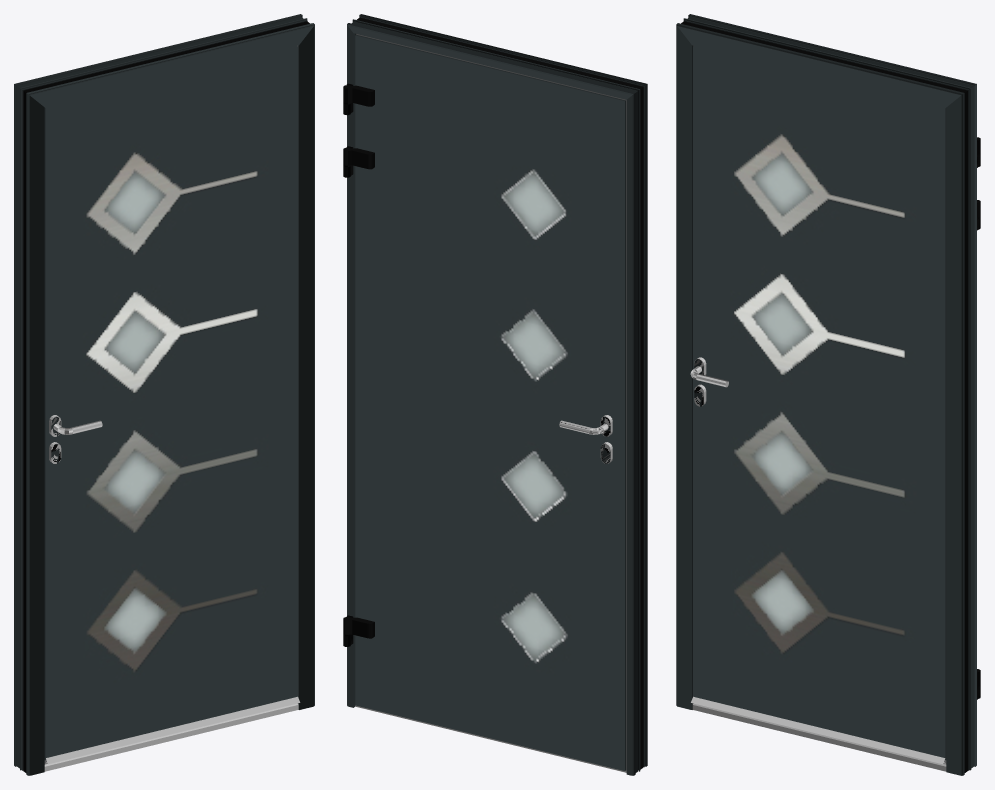
3 renders of one model, left to right at view 1: azimuth 30°, elevation 25°; view 2: azimuth 150°, elevation 25°; view 3: azimuth 330°, elevation 25°, orthographic.
Parts seen in each view (by area): view 1: ouvrant, 85; view 2: ouvrant, 85; view 3: ouvrant, 85.
Boxes of the visible parts, x1=… form: ouvrant: x1=44, y1=46, x2=300, y2=764; 85: x1=14, y1=14, x2=314, y2=775; ouvrant: x1=343, y1=34, x2=626, y2=770; 85: x1=343, y1=14, x2=647, y2=775; ouvrant: x1=691, y1=46, x2=980, y2=764; 85: x1=676, y1=14, x2=980, y2=775.
Size of the model in its own units: 96 by 218 by 22.64.
Materials: 1 (1 with a texture image).
